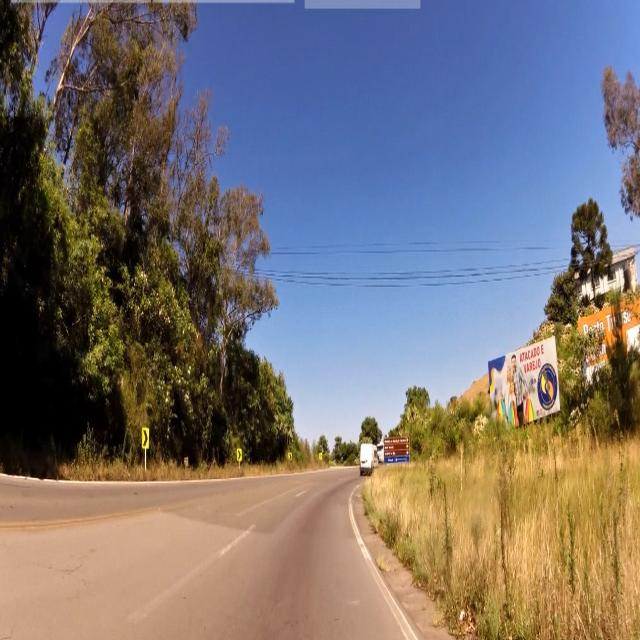Del: (142, 424, 149, 451)
